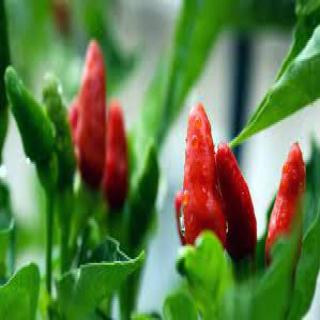Cabai Hijau: (4, 67, 60, 176)
Cabai Merah: (174, 103, 227, 248), (264, 145, 308, 298), (70, 43, 107, 192), (214, 143, 258, 263), (101, 109, 129, 210)
